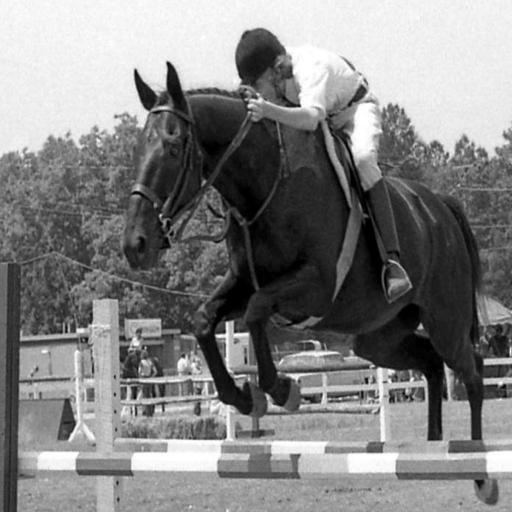horse: (118, 60, 502, 508), (118, 348, 166, 416)
